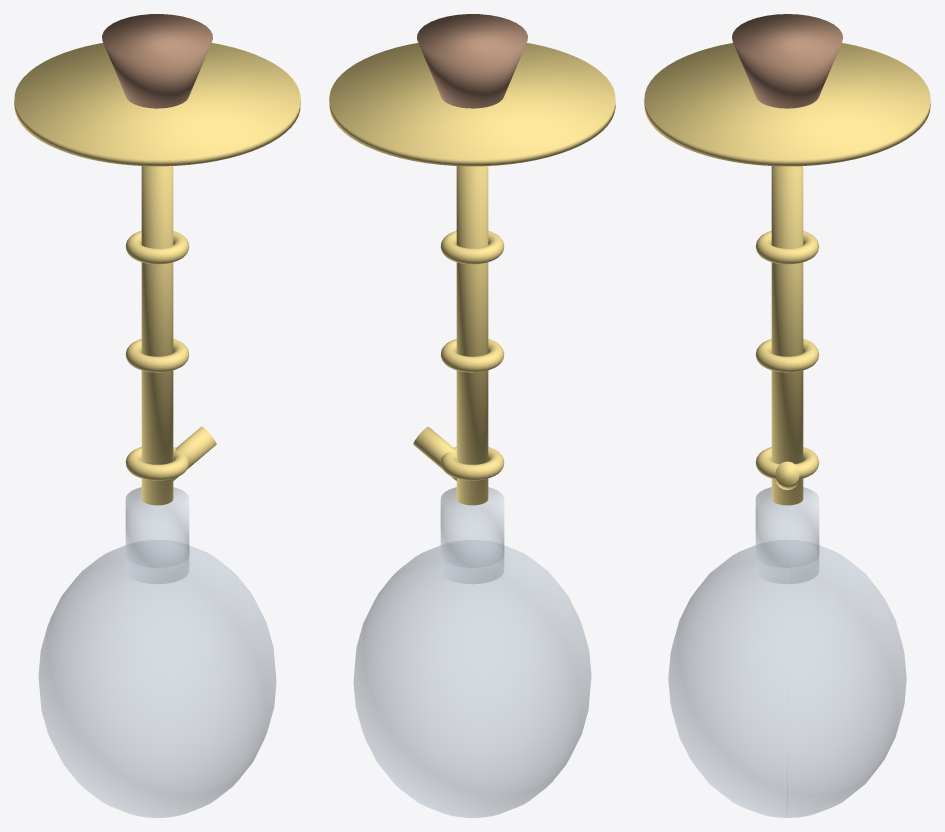
File: hookah.glb
3 renders of one model, left to right at view 1: azimuth 30°, elevation 25°; view 2: azimuth 150°, elevation 25°; view 3: azimuth 270°, elevation 25°, orthographic.
Parts seen in each view (by area): view 1: Hookah; view 2: Hookah; view 3: Hookah.
Part boxes in pixels (box(x1,y1,x2,y2)): Hookah: box(14, 14, 300, 817); Hookah: box(329, 14, 615, 817); Hookah: box(644, 14, 930, 817).
Bounding box in the file's own units: 3.6 × 10.7 × 3.6.
